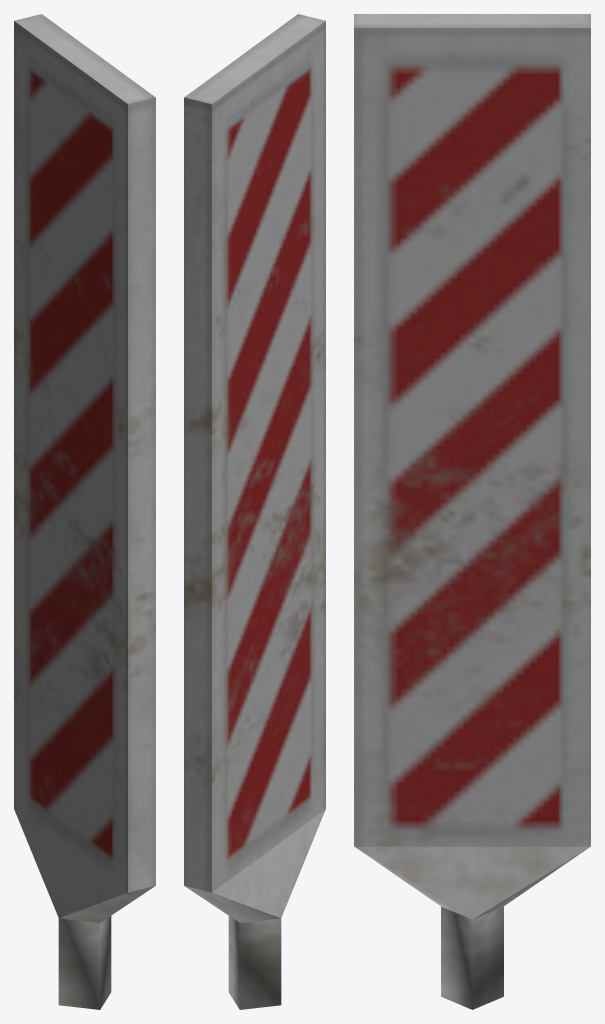
Rendered from road_side_block_3.fbx.
3 renders of one model, left to right at view 1: azimuth 30°, elevation 25°; view 2: azimuth 150°, elevation 25°; view 3: azimuth 270°, elevation 25°, orthographic. The views are drawn at different scales.
Visible parts, largest first — view 1: Bollard; view 2: Bollard; view 3: Bollard.
Boxes of the visible parts, box(x1,y1,x2,y2) form: Bollard: box(14, 14, 155, 1009); Bollard: box(184, 14, 325, 1009); Bollard: box(354, 14, 590, 1009).
Bounding box in the file's own units: 4.24 × 72.77 × 16.
